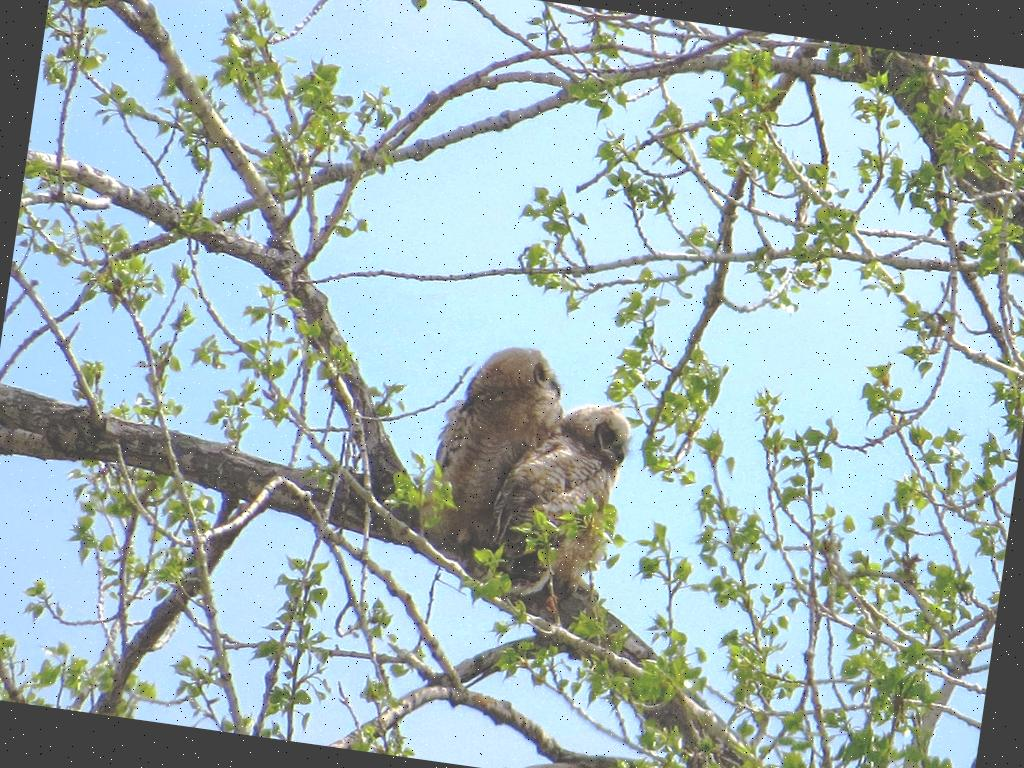Owl: (422, 332, 572, 566), (483, 392, 638, 616)
